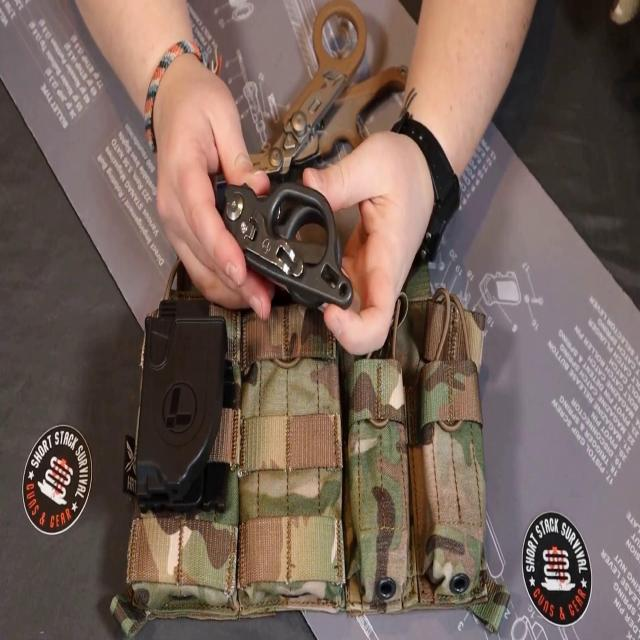scissor: (248, 0, 408, 176)
